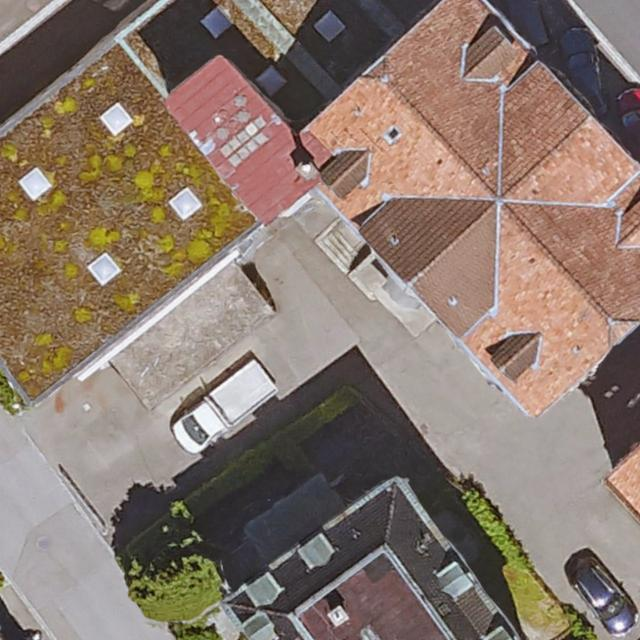tree: (127, 550, 223, 617)
